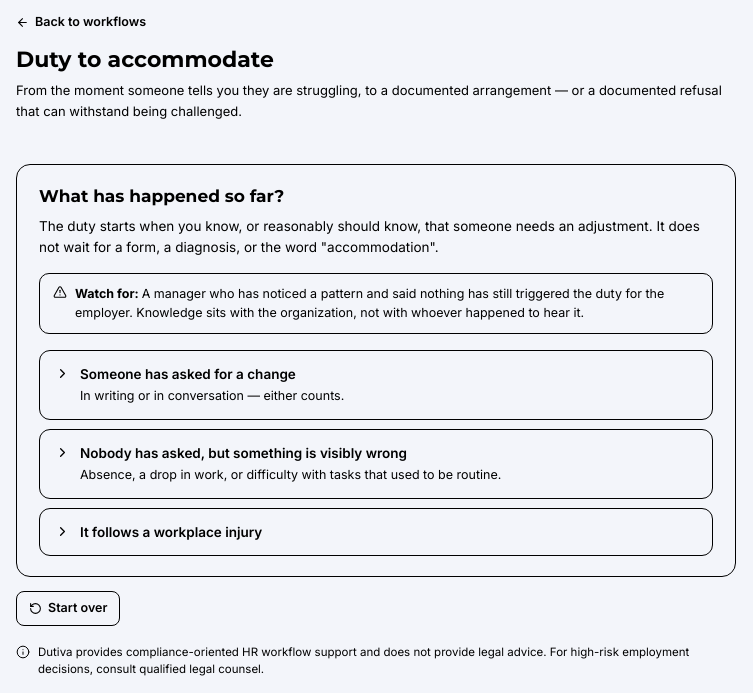
Test case: FlowRunner › advances when an option is chosen
Step 1. Click the button "Someone has asked for a change" → (188, 374), box [39, 350, 713, 420]
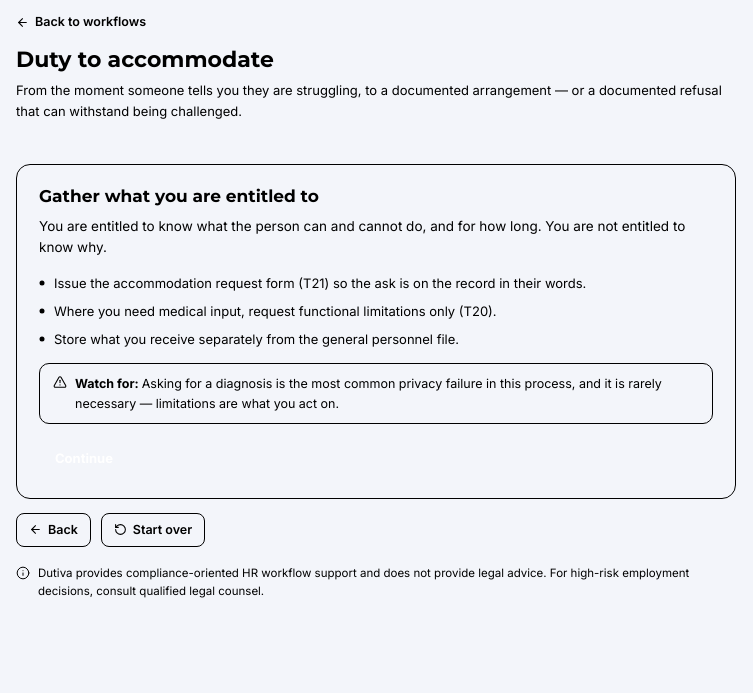
Now the heading "Gather what you are entitled to" is shown, box [39, 186, 319, 206]
